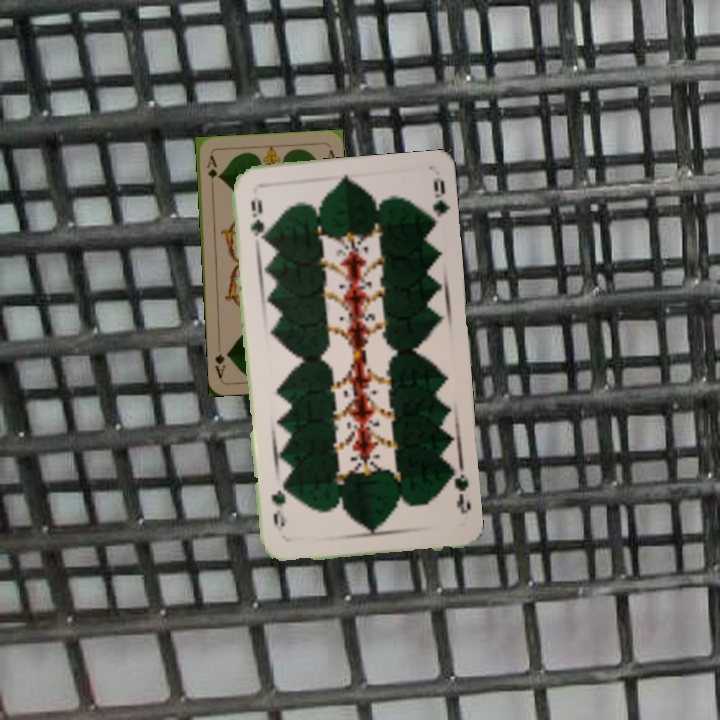G9: (444, 464, 474, 517), (246, 195, 266, 245)
GA: (203, 151, 220, 191)
